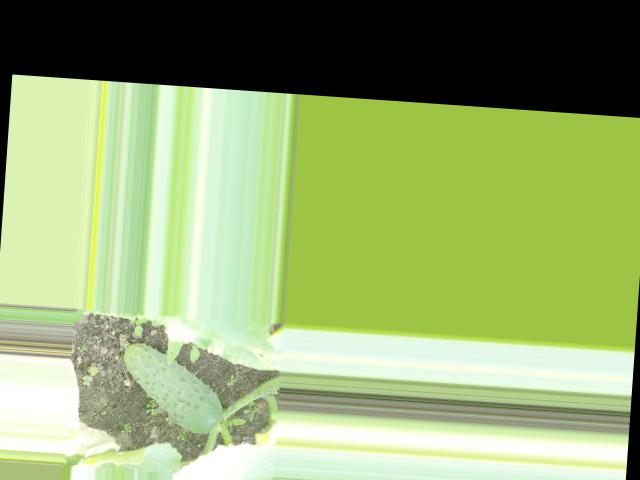cucumber: (118, 342, 228, 435)
